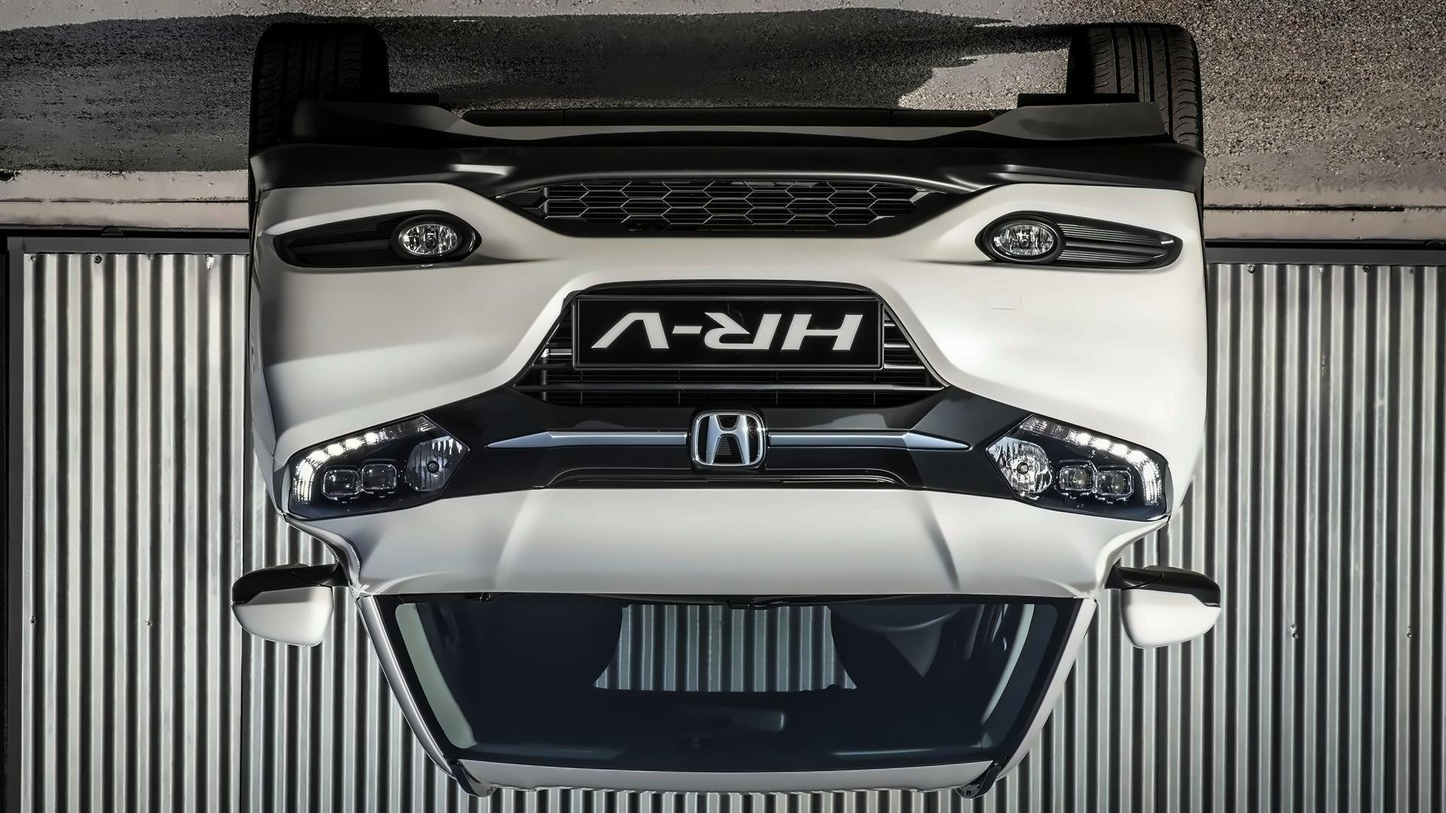Car hood: (283, 476, 1176, 610)
Front bumper: (236, 92, 1220, 451)
Headlight - -L-: (262, 407, 470, 532)
Headlight - -R-: (970, 401, 1179, 532)
Side mirror - -L-: (222, 555, 359, 658)
Side mirror - -R-: (1087, 555, 1229, 658)
